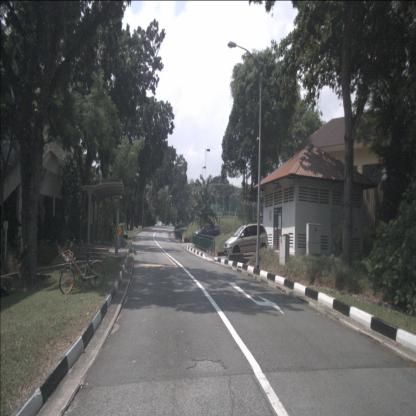human-pedestrian-adult: (123, 230, 128, 244)
vehicle-bicycle: (59, 239, 105, 295)
vehicle-car: (224, 221, 269, 258), (192, 224, 221, 243)
